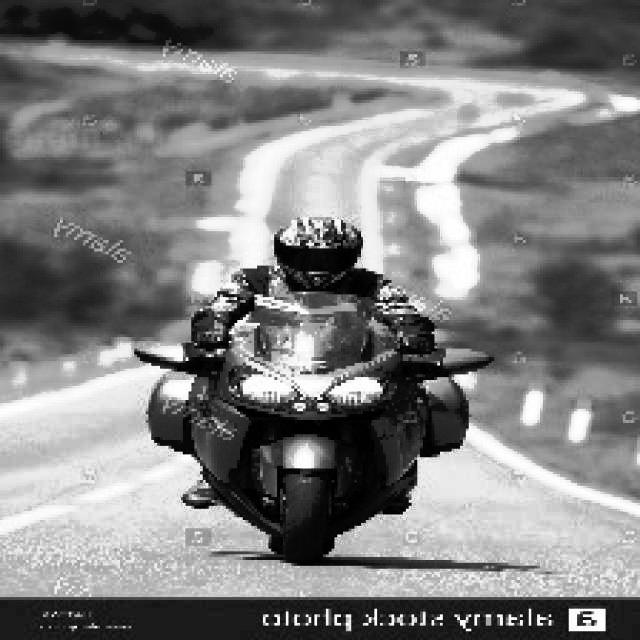Bike: (155, 299, 480, 561)
